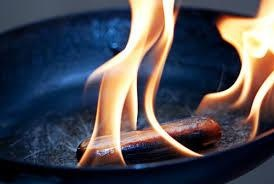fire: (87, 1, 177, 152), (211, 0, 273, 130)
